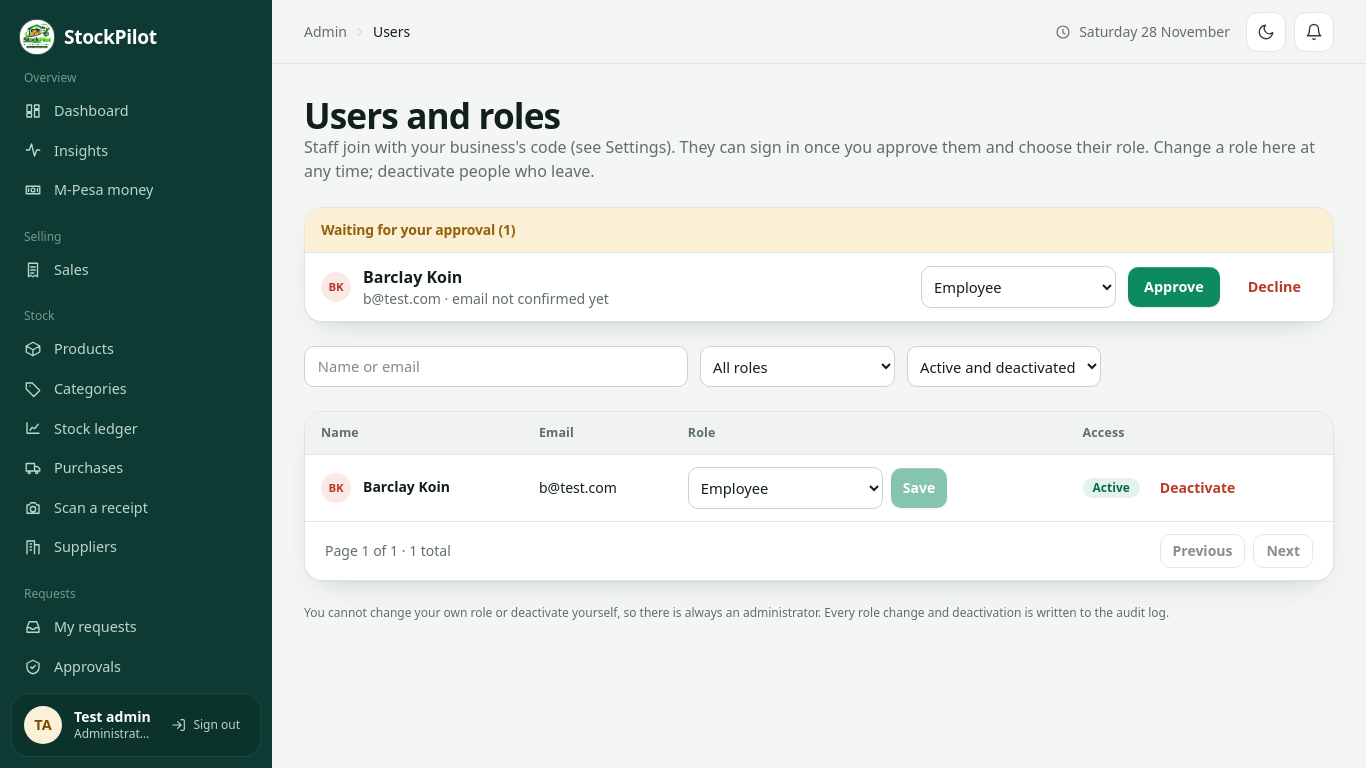
users (US-06) › can be deactivated by the Administrator
Step 1. Click the button with aria-label "Deactivate Barclay Koin" → click(1198, 488), box [1148, 468, 1247, 508]
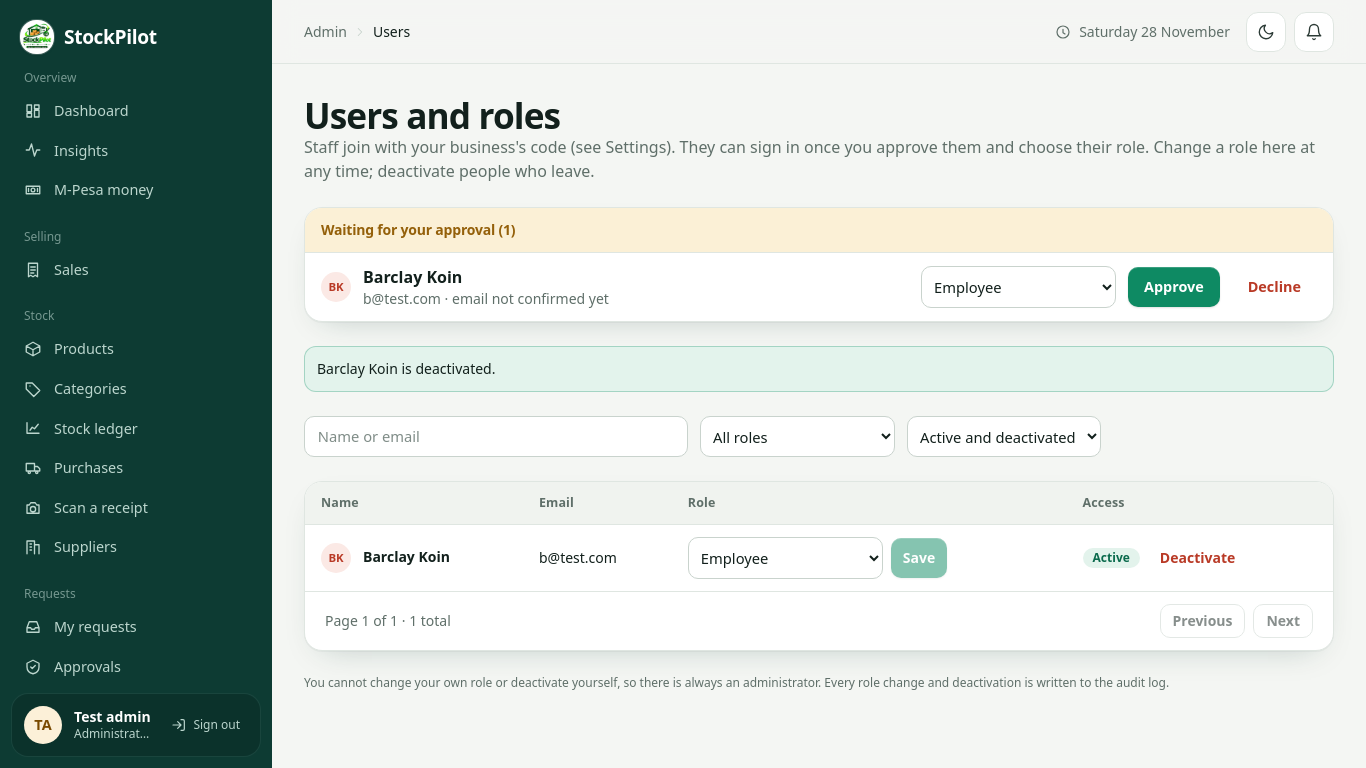
Now the text "Barclay Koin is deactivated." is shown, box [304, 346, 1334, 392]
